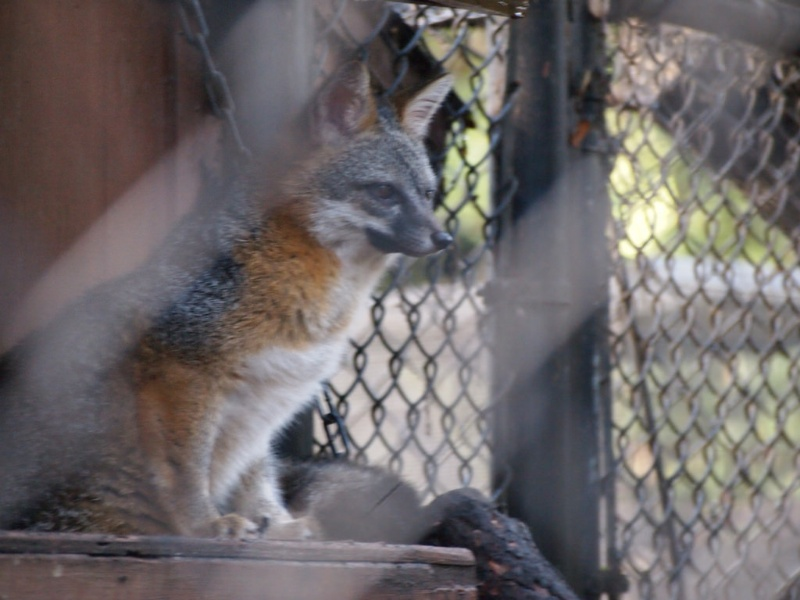fox: (1, 62, 468, 543)
